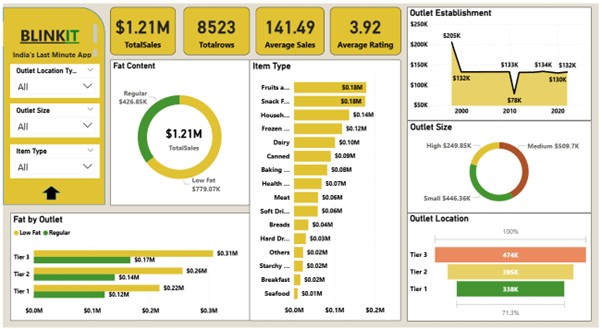

This screenshot's page, from the dashboard's own definition file:
{"tool":"powerbi","page":{"name":"Page 1","canvas":[1280,720],"ordinal":0},"visuals":[{"type":"card","fields":{"Values":["bk_data.TotalSales"]},"box":[246.5,33.4,135.2,98.6],"z":0},{"type":"card","fields":{"Values":["bk_data.Totalrows"]},"box":[397.7,33.4,136.8,98.6],"z":1000},{"type":"card","fields":{"Values":["bk_data.Average Sales"]},"box":[547.2,33.4,141.6,98.6],"z":2000},{"type":"card","fields":{"Values":["bk_data.Average Rating"]},"box":[699.9,33.4,146.3,98.6],"z":3000},{"type":"donutChart","title":" Fat Content","fields":{"Category":["bk_data.Item Fat Content"],"Y":["bk_data.TotalSales"]},"box":[246.5,141.6,287.9,300.6],"z":4000},{"type":"barChart","title":" Item Type","fields":{"Category":["bk_data.Item Type"],"Y":["bk_data.TotalSales"]},"box":[534.4,141.6,311.8,539.2],"z":5000},{"type":"shape","box":[25.4,33.4,210,408.8],"z":6000},{"type":"textbox","box":[25.4,63.6,198.8,50.9],"z":7000},{"type":"textbox","box":[39.8,114.5,184.5,27],"z":8000},{"type":"card","fields":{"Values":["bk_data.TotalSales"]},"box":[353.1,265.6,89.1,73.2],"z":9000},{"type":"clusteredBarChart","title":"Fat by Outlet ","fields":{"Category":["bk_data.Outlet Location Type"],"Series":["bk_data.Item Fat Content"],"Y":["bk_data.TotalSales"]},"box":[39.8,458.1,494.7,222.7],"z":10000},{"type":"lineChart","title":" Outlet Establishment ","fields":{"Y":["bk_data.TotalSales"],"Category":["bk_data.Outlet Establishment Year"]},"box":[858.9,33.4,380.2,233.8],"z":11000},{"type":"donutChart","title":"Outlet Size","fields":{"Y":["bk_data.TotalSales"],"Category":["bk_data.Outlet Size"]},"box":[858.9,267.2,380.2,190.9],"z":12000},{"type":"funnel","title":"Outlet Location ","fields":{"Category":["bk_data.Outlet Location Type"],"Y":["Sum(bk_data.Sales)"]},"box":[859,458,380,223],"z":13000},{"type":"slicer","fields":{"Values":["bk_data.Outlet Location Type"]},"box":[39.8,151.1,184.5,70],"z":14000},{"type":"slicer","fields":{"Values":["bk_data.Outlet Size"]},"box":[39.8,232.2,184.5,70],"z":15000},{"type":"slicer","fields":{"Values":["bk_data.Item Type"]},"box":[39.8,316.5,184.5,70],"z":16000},{"type":"shape","box":[106.6,402.4,38.2,28.6],"z":17000}]}

Visuals, with their boxes in screenshot pixels (x1, y1, x2, y2), scaled from the page's 1280x720 canvas onto the 602x329 screenshot:
card - bk_data.TotalSales: <box>116,15,180,60</box>
card - bk_data.Totalrows: <box>187,15,251,60</box>
card - bk_data.Average Sales: <box>257,15,324,60</box>
card - bk_data.Average Rating: <box>329,15,398,60</box>
" Fat Content" donutChart: <box>116,65,251,202</box>
" Item Type" barChart: <box>251,65,398,311</box>
shape: <box>12,15,111,202</box>
textbox: <box>12,29,105,52</box>
textbox: <box>19,52,105,65</box>
card - bk_data.TotalSales: <box>166,121,208,155</box>
"Fat by Outlet " clusteredBarChart: <box>19,209,251,311</box>
" Outlet Establishment " lineChart: <box>404,15,583,122</box>
"Outlet Size" donutChart: <box>404,122,583,209</box>
"Outlet Location " funnel: <box>404,209,583,311</box>
slicer - bk_data.Outlet Location Type: <box>19,69,105,101</box>
slicer - bk_data.Outlet Size: <box>19,106,105,138</box>
slicer - bk_data.Item Type: <box>19,145,105,177</box>
shape: <box>50,184,68,197</box>
